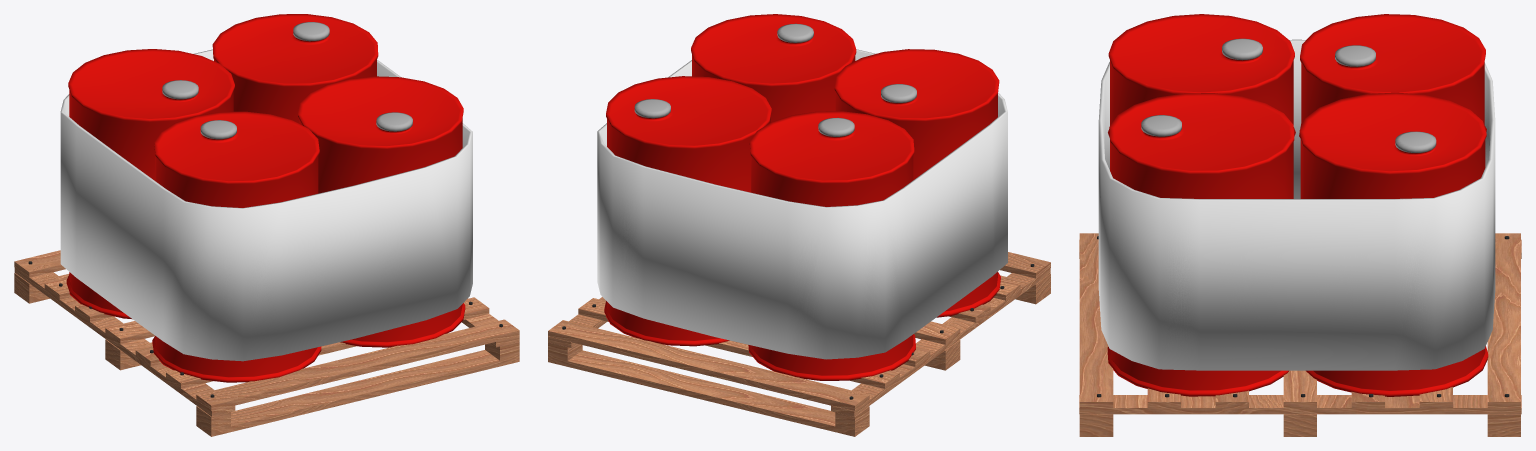
The model's file is barril 01.fbx.
The picture shows the model from 3 angles, left to right: view 1: azimuth 30°, elevation 25°; view 2: azimuth 150°, elevation 25°; view 3: azimuth 270°, elevation 25°; orthographic projection. The views are drawn at different scales.
Visible parts, largest first — view 1: Plane.001, Wood Pallet Standar.002, Cylinder.004, Cylinder.006, Cylinder.005, Cylinder.007; view 2: Plane.001, Wood Pallet Standar.002, Cylinder.005, Cylinder.007, Cylinder.004, Cylinder.006; view 3: Plane.001, Cylinder.007, Cylinder.006, Wood Pallet Standar.002, Cylinder.004, Cylinder.005.
Boxes of the visible parts, left/top/right/bottom form: Plane.001: left=60, top=49, right=472, bottom=361; Wood Pallet Standar.002: left=14, top=250, right=519, bottom=436; Cylinder.004: left=152, top=111, right=321, bottom=382; Cylinder.006: left=298, top=76, right=465, bottom=347; Cylinder.005: left=66, top=49, right=234, bottom=319; Cylinder.007: left=212, top=14, right=378, bottom=123; Plane.001: left=597, top=49, right=1007, bottom=359; Wood Pallet Standar.002: left=548, top=252, right=1050, bottom=436; Cylinder.005: left=748, top=111, right=915, bottom=380; Cylinder.007: left=604, top=76, right=771, bottom=346; Cylinder.004: left=834, top=49, right=1000, bottom=317; Cylinder.006: left=691, top=14, right=856, bottom=122; Plane.001: left=1098, top=39, right=1495, bottom=370; Cylinder.007: left=1299, top=92, right=1488, bottom=396; Cylinder.006: left=1107, top=93, right=1294, bottom=396; Wood Pallet Standar.002: left=1079, top=233, right=1521, bottom=436; Cylinder.004: left=1108, top=14, right=1295, bottom=198; Cylinder.005: left=1299, top=14, right=1486, bottom=138.
Bounding box in the file's own units: 42.53 × 31.32 × 47.13.
